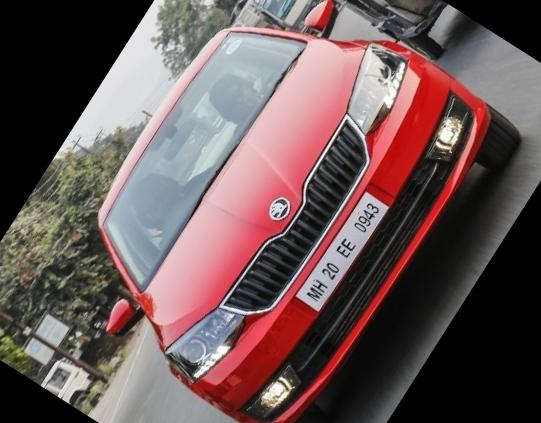plate: (287, 175, 408, 325)
